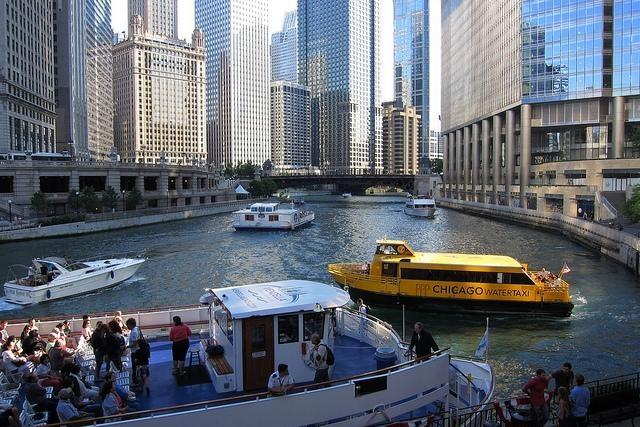bus: (8, 152, 64, 162)
